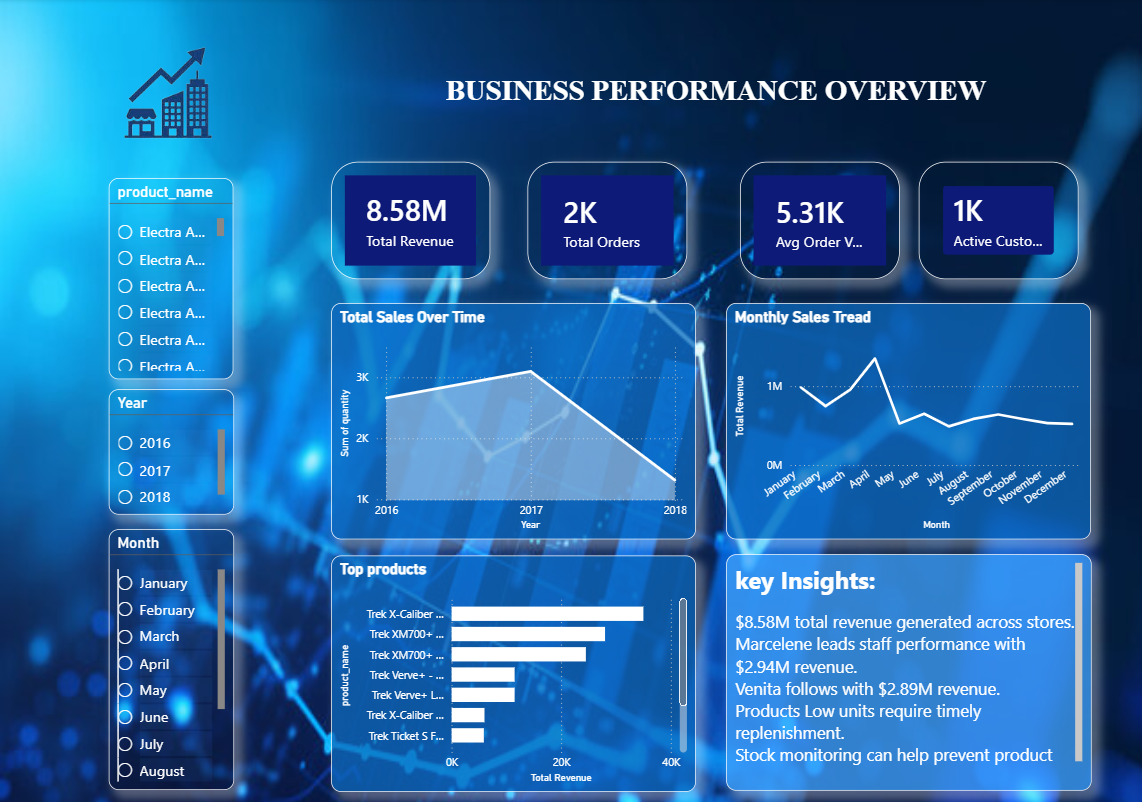

Layout of this report page (visuals, bound fields, positions):
{"tool":"powerbi","page":{"name":"Executive Overview","canvas":[1280,900],"ordinal":0},"visuals":[{"type":"cardVisual","fields":{"Data":["orders.Avg Order Value"]},"box":[826.3,182.8,178.7,131.2],"z":0},{"type":"listSlicer","fields":{"Values":["orders.order_date.Variation.Date Hierarchy.Year"]},"box":[121.4,436.9,140,140],"z":1000},{"type":"lineChart","title":"Total Sales Over Time","fields":{"Category":["orders.order_date.Variation.Date Hierarchy.Year"],"Y":["Sum(order_items.quantity)"]},"box":[369.9,340.6,407.1,264.3],"z":2000},{"type":"lineChart","title":"Monthly Sales Tread","fields":{"Category":["orders.order_date.Variation.Date Hierarchy.Month"],"Y":["order_items.Total Revenue"]},"box":[811,340.6,407.6,264],"z":3000},{"type":"listSlicer","fields":{"Values":["orders.order_date.Variation.Date Hierarchy.Month"]},"box":[121.4,593.2,140,291.4],"z":4000},{"type":"clusteredBarChart","title":"Top products","fields":{"Category":["products.product_name"],"Y":["order_items.Total Revenue"]},"box":[369.9,622.5,407.6,264],"z":5000},{"type":"cardVisual","fields":{"Data":["orders.Active Customers"]},"box":[1025.9,182.8,178.7,131.2],"z":6000},{"type":"cardVisual","fields":{"Data":["orders.Total Orders"]},"box":[589,182.8,178.7,131.2],"z":7000},{"type":"cardVisual","fields":{"Data":["order_items.Total Revenue"]},"box":[369.9,182.8,177.3,131.2],"z":8000},{"type":"textbox","box":[811,621.1,408,264],"z":9000},{"type":"textbox","box":[492.7,79.6,622.5,51.6],"z":10000},{"type":"listSlicer","fields":{"Values":["order_items.product_name"]},"box":[121.4,201,139.6,224.7],"z":11000},{"type":"image","box":[83.7,25.1,215,157.7],"z":12000}]}

Visuals, with their boxes in screenshot pixels (x1, y1, x2, y2), scaled from the page's 1280x900 canvas onto the 1142x802 screenshot:
cardVisual - orders.Avg Order Value: 737 163 897 280
listSlicer - orders.order_date.Variation.Date Hierarchy.Year: 108 389 233 514
"Total Sales Over Time" lineChart: 330 304 693 539
"Monthly Sales Tread" lineChart: 724 304 1087 539
listSlicer - orders.order_date.Variation.Date Hierarchy.Month: 108 529 233 788
"Top products" clusteredBarChart: 330 555 694 790
cardVisual - orders.Active Customers: 915 163 1075 280
cardVisual - orders.Total Orders: 525 163 685 280
cardVisual - order_items.Total Revenue: 330 163 488 280
textbox: 724 553 1088 789
textbox: 440 71 995 117
listSlicer - order_items.product_name: 108 179 233 379
image: 75 22 266 163
